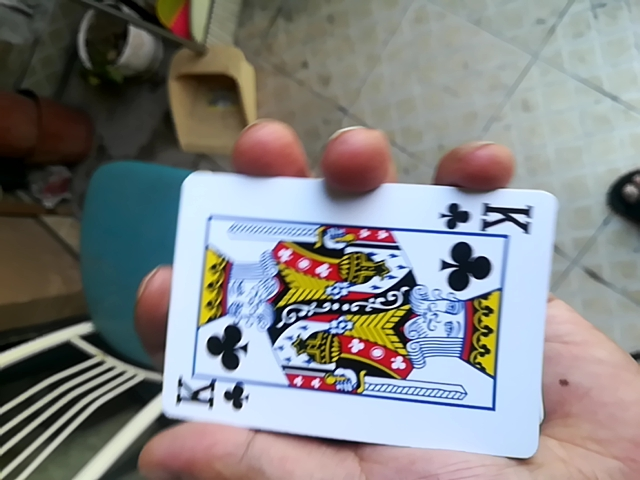mh k: (158, 152, 543, 459)
